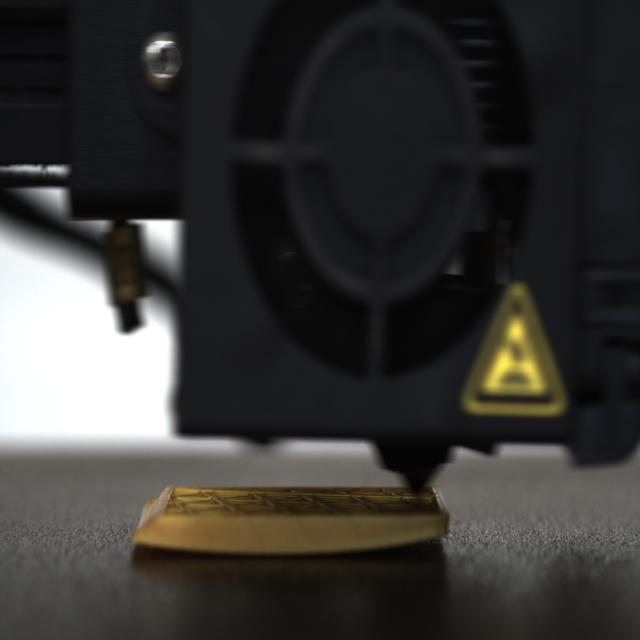Warping: (366, 522, 450, 561), (123, 532, 202, 560)
